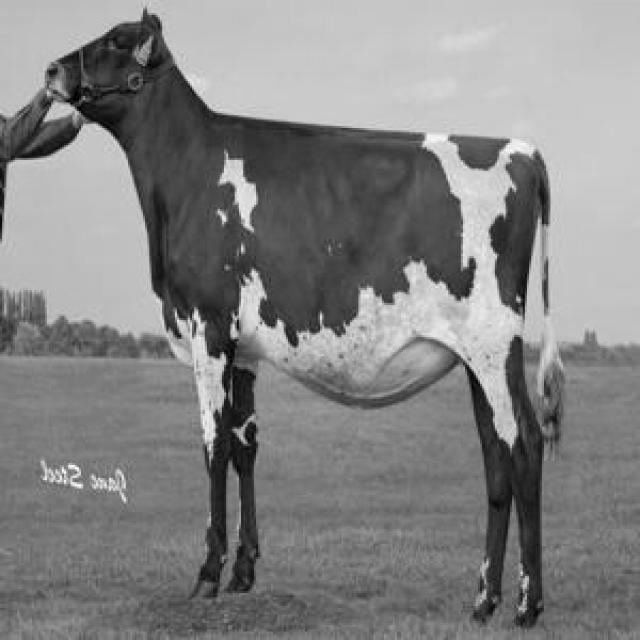cow: (48, 14, 561, 626)
